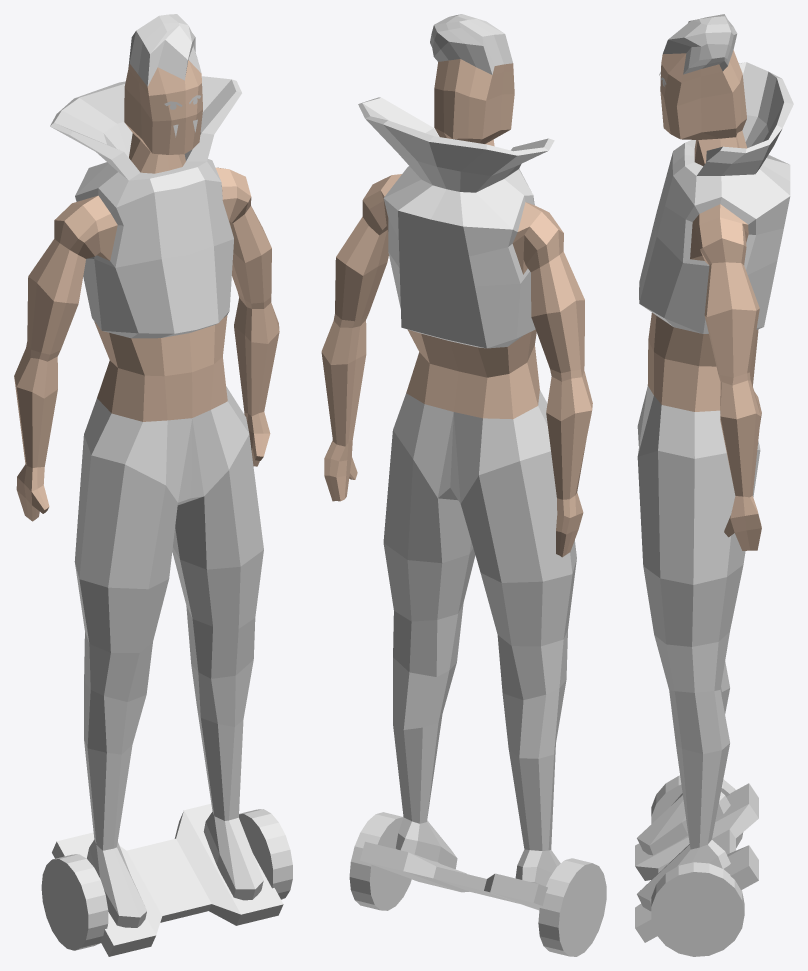
The model's file is vampirebro.glb.
3 renders of one model, left to right at view 1: azimuth 30°, elevation 25°; view 2: azimuth 150°, elevation 25°; view 3: azimuth 270°, elevation 25°, orthographic. The views are drawn at different scales.
Visible parts, largest first — view 1: Cube; view 2: Cube; view 3: Cube.
Part boxes in pixels (x1=…): Cube: x1=14, y1=14, x2=292, y2=956; Cube: x1=321, y1=14, x2=606, y2=956; Cube: x1=635, y1=14, x2=793, y2=956.
Size of the model in its own units: 0.7203 by 2.35 by 0.3786.
